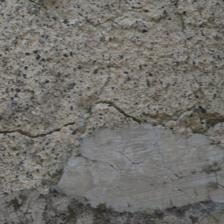Crack: (2, 57, 75, 126), (60, 69, 88, 112)
